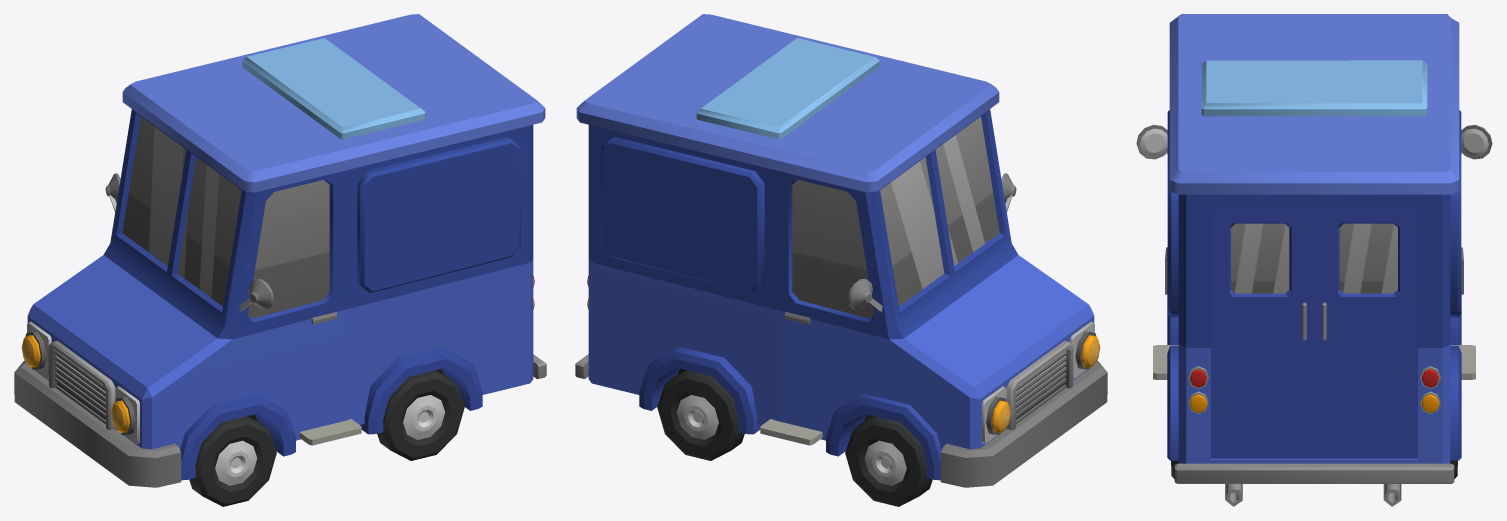
The model's file is Car_14_B.fbx.
3 views of the same model, side by side, from view 1: azimuth 30°, elevation 25°; view 2: azimuth 150°, elevation 25°; view 3: azimuth 270°, elevation 25° (orthographic). The views are drawn at different scales.
Parts seen in each view (by area): view 1: Car_14_B, RL, FL; view 2: Car_14_B, RR, FR; view 3: Car_14_B.
Part boxes in pixels (x1=…): Car_14_B: x1=14, y1=14, x2=546, y2=487; RL: x1=377, y1=370, x2=464, y2=460; FL: x1=189, y1=416, x2=276, y2=506; Car_14_B: x1=575, y1=14, x2=1107, y2=487; RR: x1=657, y1=370, x2=744, y2=460; FR: x1=845, y1=416, x2=932, y2=506; Car_14_B: x1=1136, y1=14, x2=1492, y2=506.
Size of the model in its own units: 275 by 210 by 180.
